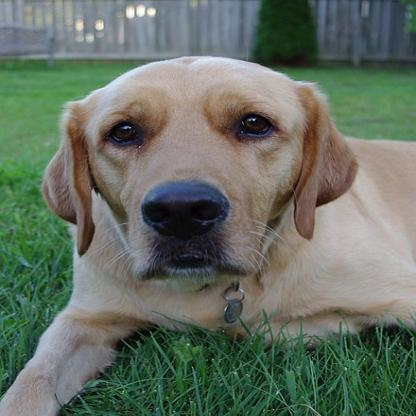dog: (2, 54, 416, 416)
